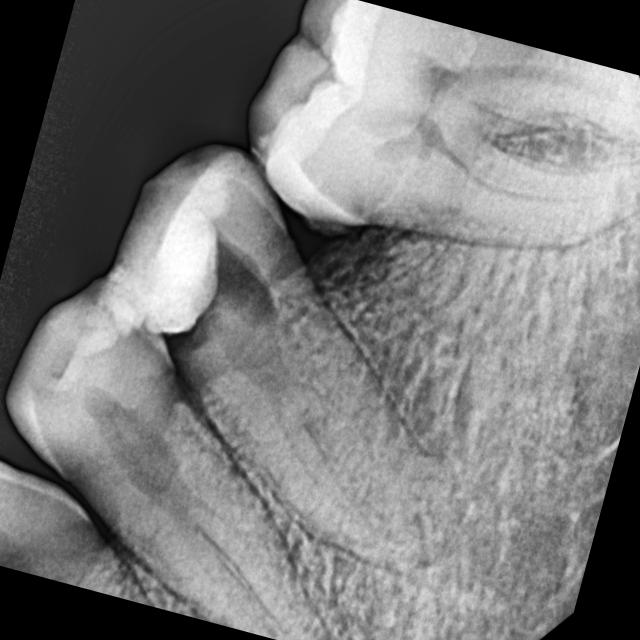Badly Decayed: (51, 126, 332, 447)
